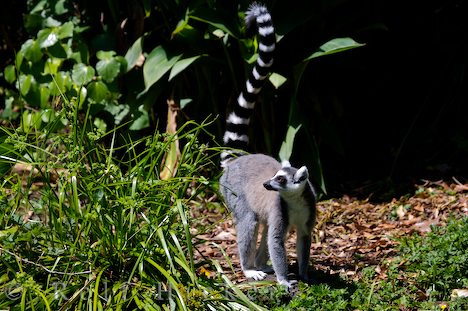cat: (216, 3, 321, 292)
